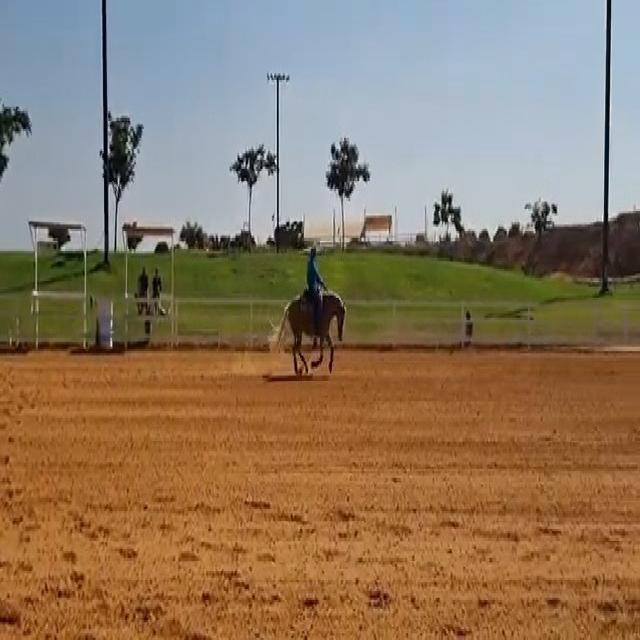horse: (274, 284, 347, 376)
